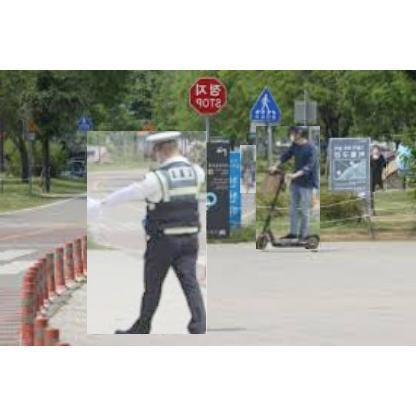with scooter: (257, 127, 320, 252)
without scooter: (88, 131, 208, 334), (371, 144, 388, 192), (240, 146, 257, 194)
